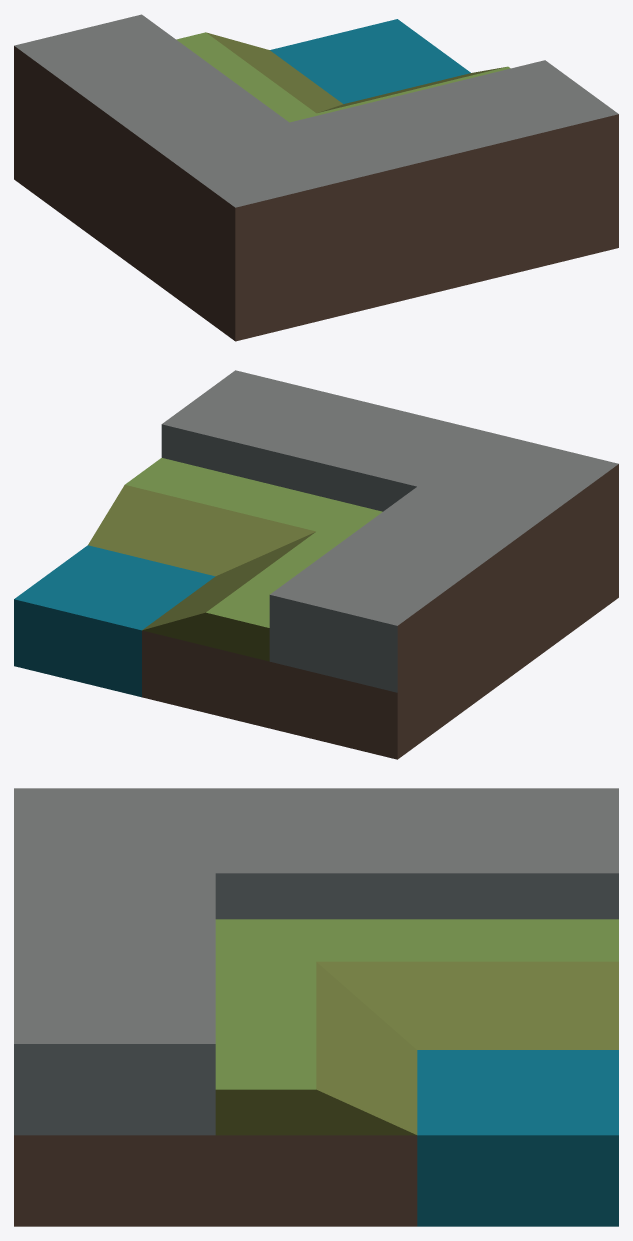
Rendered from TB_CITY_Road_Water_G.FBX.
3 views of the same model, one above another, from view 1: azimuth 30°, elevation 25°; view 2: azimuth 150°, elevation 25°; view 3: azimuth 270°, elevation 25° (orthographic). The views are drawn at different scales.
Parts seen in each view (by area): view 1: TB_CITY_Road_Water_G; view 2: TB_CITY_Road_Water_G; view 3: TB_CITY_Road_Water_G.
Part boxes in pixels (x1,y1,x2,y2): TB_CITY_Road_Water_G: (14, 14, 618, 341); TB_CITY_Road_Water_G: (14, 370, 618, 759); TB_CITY_Road_Water_G: (14, 788, 618, 1226).
Size of the model in its own units: 30 by 10 by 30.
